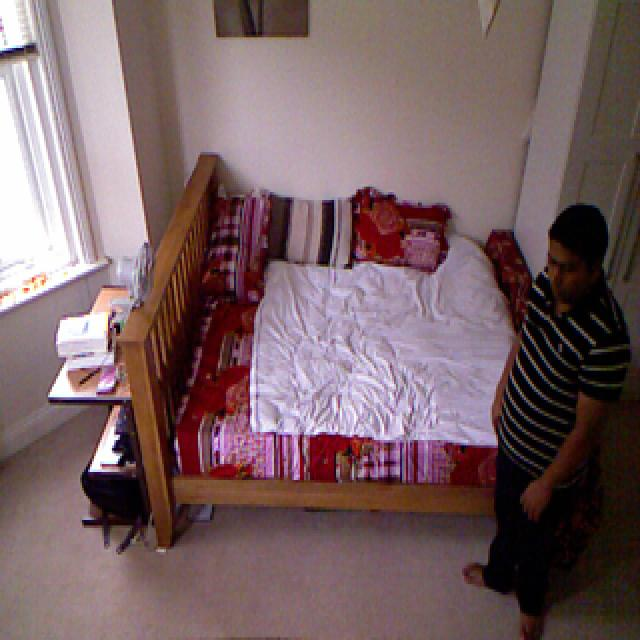standing: (480, 189, 636, 640)
